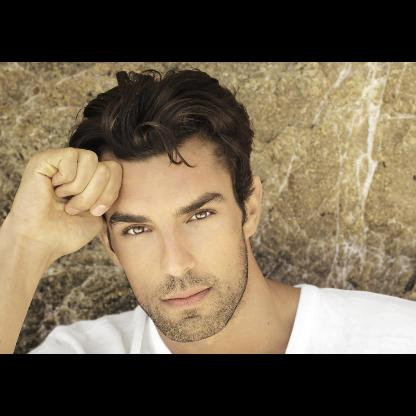Male: (86, 132, 262, 338)
